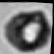correct: (0, 3, 54, 54)
